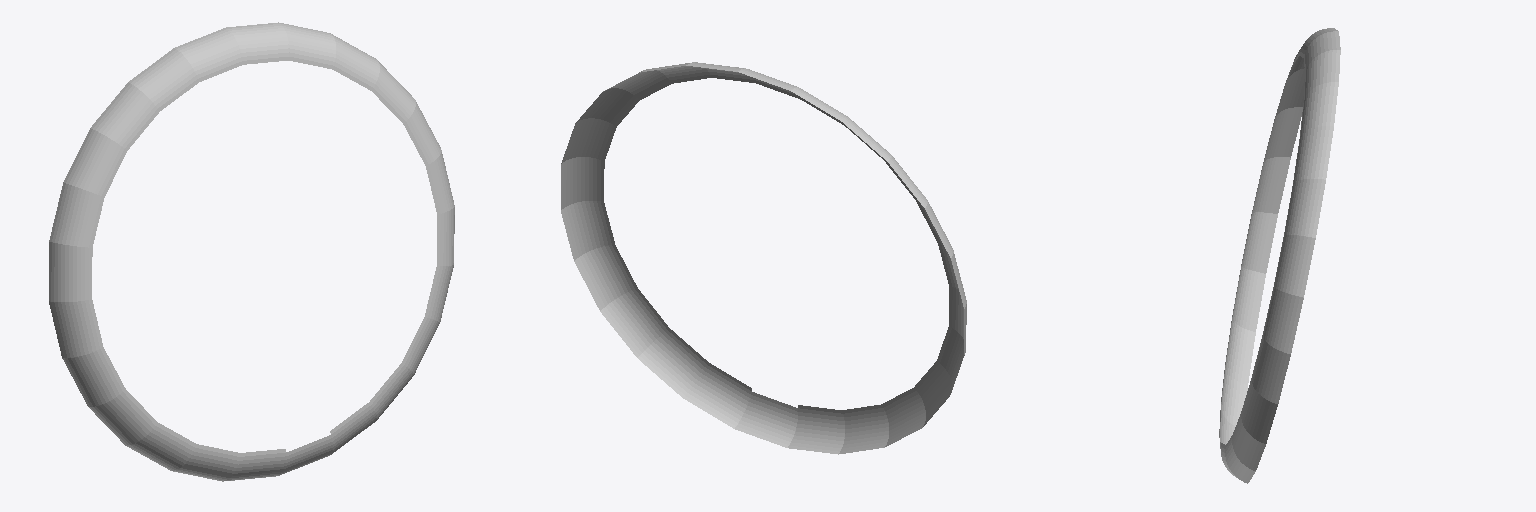
Rendered from original-30.obj.
3 views of the same model, side by side, from view 1: azimuth 30°, elevation 25°; view 2: azimuth 150°, elevation 25°; view 3: azimuth 270°, elevation 25° (orthographic).
Visible parts, largest first — view 1: mesh6/mesh6-geometry/material_0#mesh6-geometry; view 2: mesh6/mesh6-geometry/material_0#mesh6-geometry; view 3: mesh6/mesh6-geometry/material_0#mesh6-geometry.
Boxes of the visible parts, x1,y1,x2,y2 form: mesh6/mesh6-geometry/material_0#mesh6-geometry: [49, 22, 454, 481]; mesh6/mesh6-geometry/material_0#mesh6-geometry: [561, 62, 966, 454]; mesh6/mesh6-geometry/material_0#mesh6-geometry: [1219, 28, 1340, 483].
Bounding box in the file's own units: 0.0622 × 0.0608 × 0.0162.